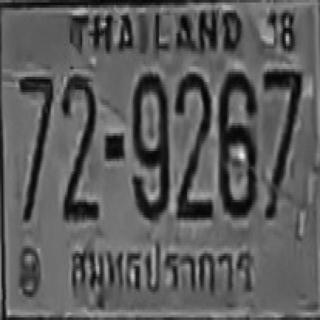N02: (174, 70, 211, 219), (61, 73, 96, 219)
N06: (218, 69, 255, 215)
N07: (263, 65, 302, 216), (18, 73, 52, 219)
N09: (132, 70, 168, 216)
P57: (62, 234, 260, 305)
